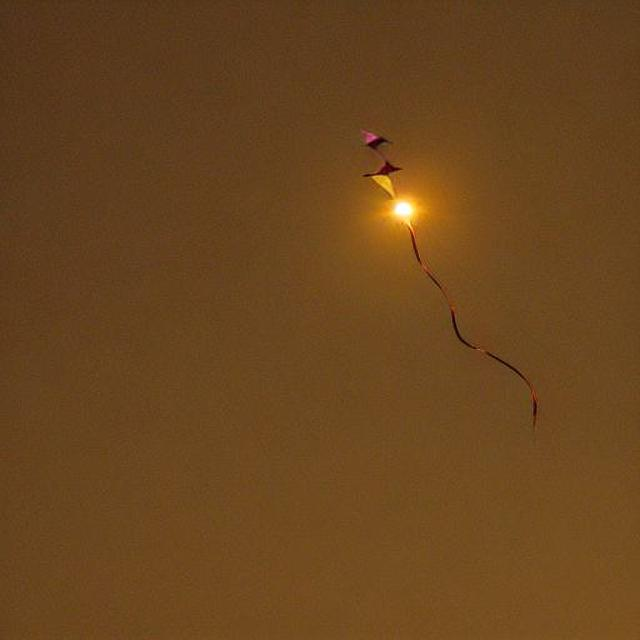floating object: (342, 114, 563, 450)
